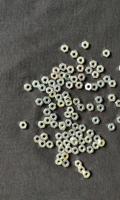nut: (82, 41, 90, 49), (61, 45, 69, 53), (71, 50, 79, 58), (97, 65, 105, 73), (67, 66, 75, 74), (85, 83, 93, 91), (57, 79, 65, 87), (42, 76, 50, 84), (39, 84, 47, 92), (87, 104, 95, 112), (38, 121, 46, 129), (72, 123, 80, 131), (69, 129, 77, 137), (46, 141, 54, 149), (85, 136, 93, 144), (58, 147, 66, 155), (62, 160, 70, 168), (55, 158, 63, 166), (75, 160, 83, 168), (78, 166, 86, 174), (83, 171, 91, 179), (19, 122, 28, 129), (103, 50, 111, 57), (78, 57, 85, 65), (90, 61, 98, 68), (77, 65, 85, 72), (92, 71, 100, 78), (60, 63, 67, 71), (53, 67, 60, 75), (78, 74, 86, 81), (64, 73, 72, 80), (104, 76, 112, 83), (109, 81, 117, 88), (98, 80, 105, 88), (49, 80, 56, 88), (25, 84, 32, 92), (46, 87, 54, 94), (54, 85, 61, 93), (49, 91, 57, 98), (55, 94, 63, 101), (62, 92, 70, 99), (43, 97, 51, 104), (36, 99, 44, 106), (64, 96, 72, 103), (49, 103, 56, 111), (74, 98, 81, 106), (78, 104, 85, 112), (109, 95, 117, 102), (67, 107, 75, 114), (65, 111, 72, 119), (50, 114, 58, 121), (108, 124, 116, 131), (44, 117, 52, 124), (51, 121, 58, 129), (65, 120, 73, 127), (59, 122, 67, 129), (79, 125, 87, 132), (87, 130, 95, 137), (76, 131, 83, 139), (63, 132, 70, 140), (56, 133, 63, 141), (41, 133, 48, 141), (34, 136, 42, 143), (98, 140, 106, 147), (87, 146, 94, 154), (72, 138, 79, 146), (79, 145, 86, 153), (56, 141, 64, 148), (72, 147, 79, 155), (86, 67, 93, 74), (71, 76, 78, 83), (51, 73, 58, 80), (92, 84, 99, 91), (76, 82, 83, 89), (66, 82, 73, 89), (33, 81, 40, 88), (58, 100, 65, 107), (44, 109, 51, 116), (96, 97, 103, 104), (98, 105, 105, 112), (72, 113, 79, 120), (93, 117, 100, 124), (60, 124, 67, 131), (39, 141, 46, 148), (79, 138, 86, 145), (93, 143, 100, 150), (70, 137, 77, 144), (64, 140, 71, 147), (66, 147, 73, 154), (62, 153, 69, 160), (94, 136, 102, 142), (59, 72, 65, 79), (66, 100, 73, 106), (57, 154, 63, 160), (116, 100, 120, 108), (117, 117, 120, 124), (119, 65, 120, 73)
